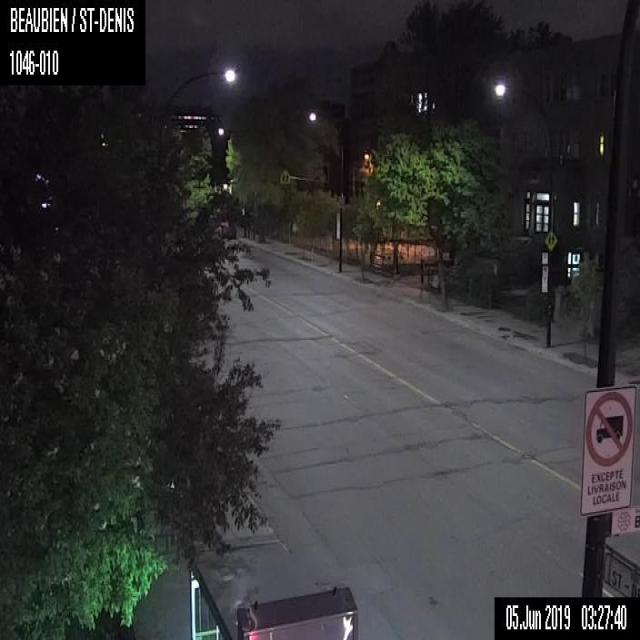vehicle: (218, 220, 235, 237)
